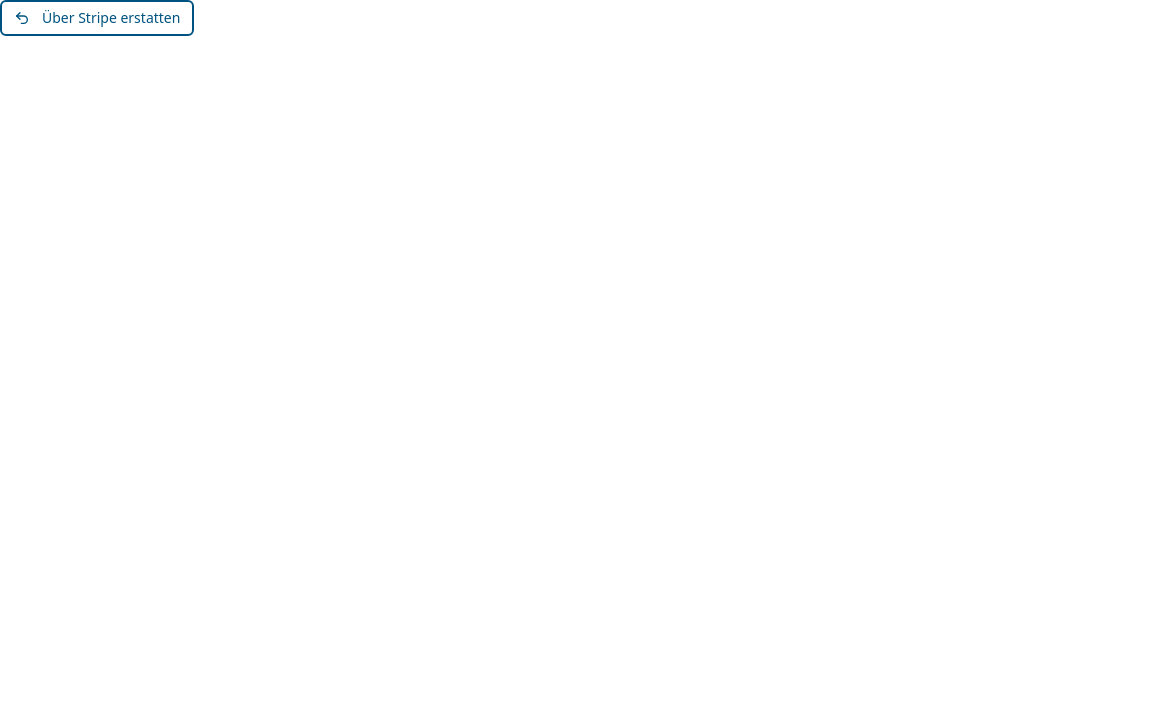
Test: Credit refund confirmation (mock only) › checks eligibility before opening and never refunds on cancel
Click the button "Über Stripe erstatten": (97, 18) [0,0,194,36]
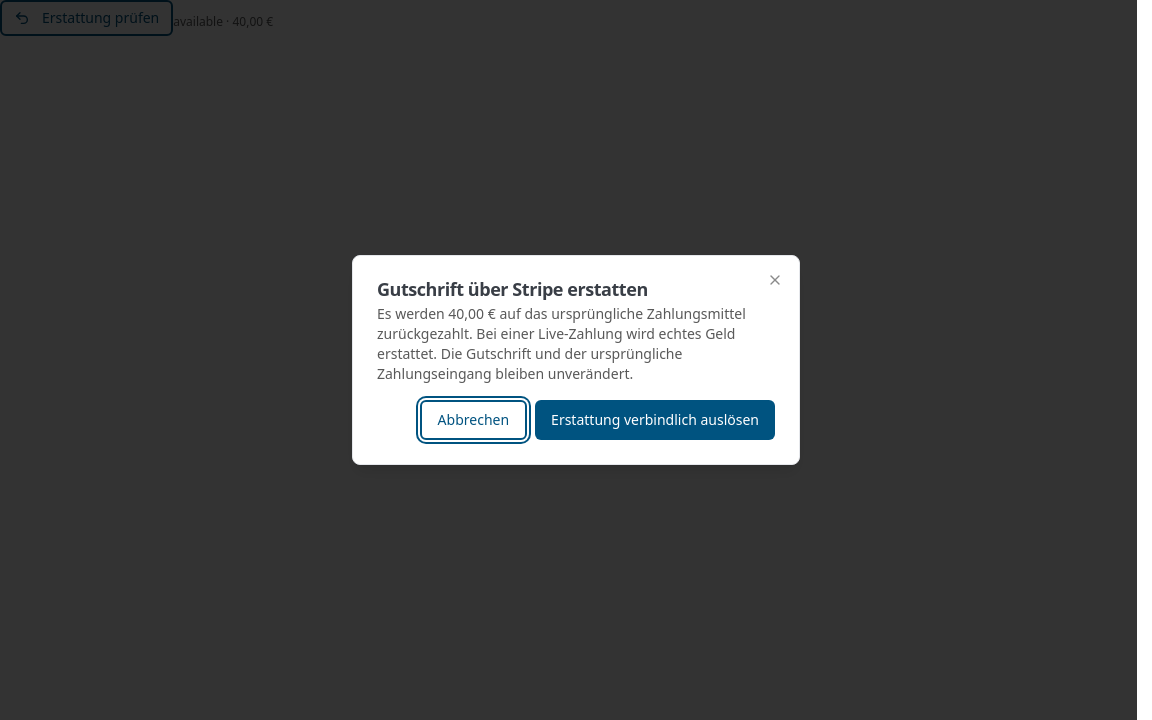
Result: the button "Erstattung verbindlich auslösen" is shown at [535,400,775,440]
Click the button "Abbrechen": (473, 420) [420,400,527,440]
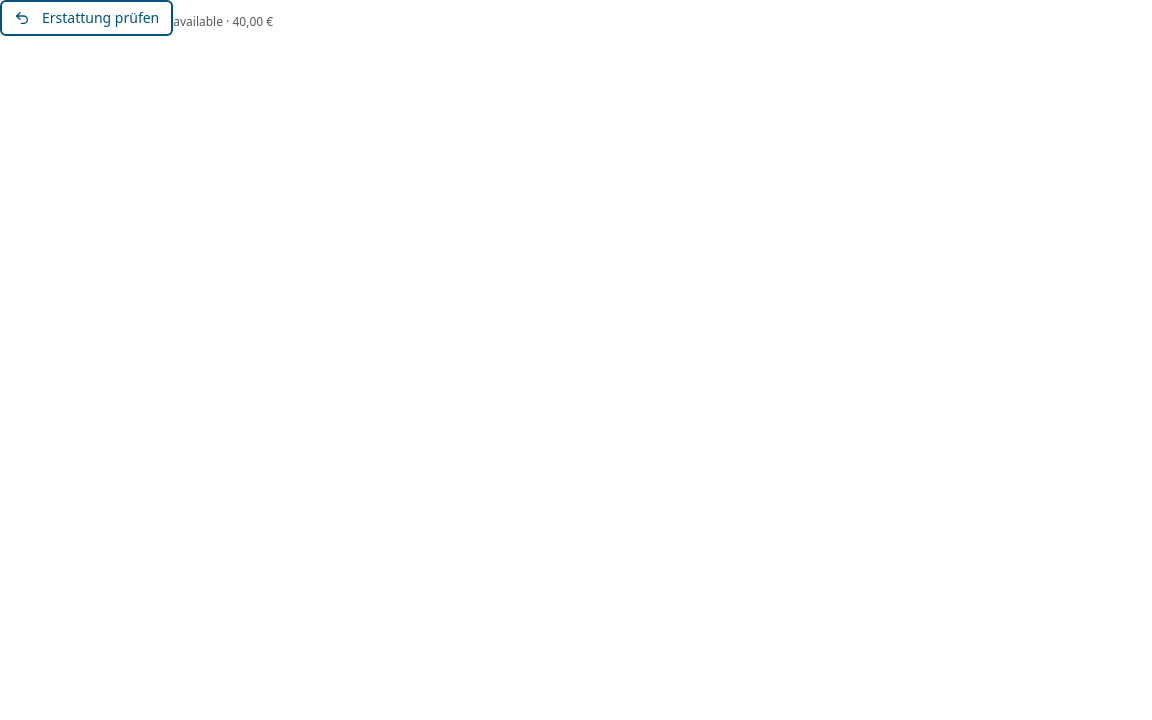
Result: the dialog is gone
